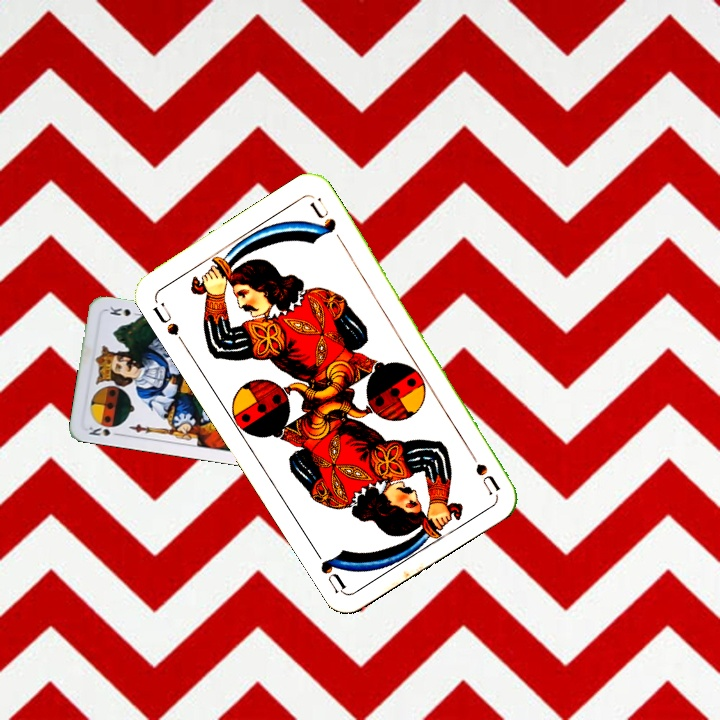SK: (85, 422, 124, 439)
SU: (462, 441, 503, 496), (148, 298, 182, 338)
